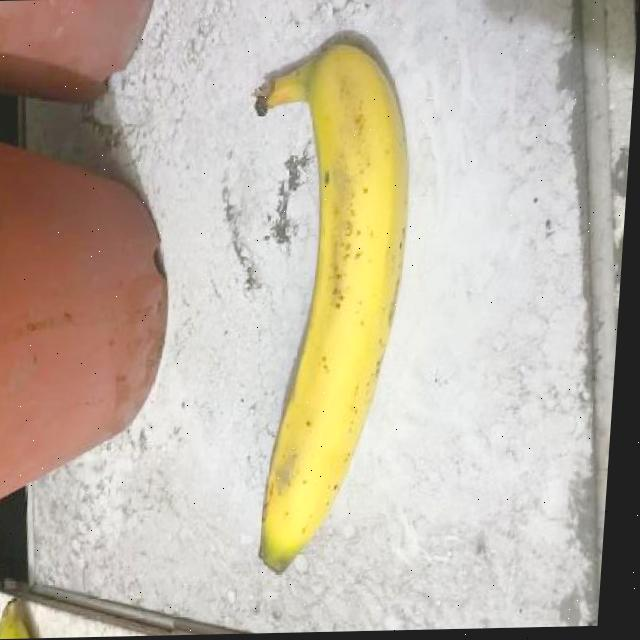banana: (213, 27, 426, 579)
